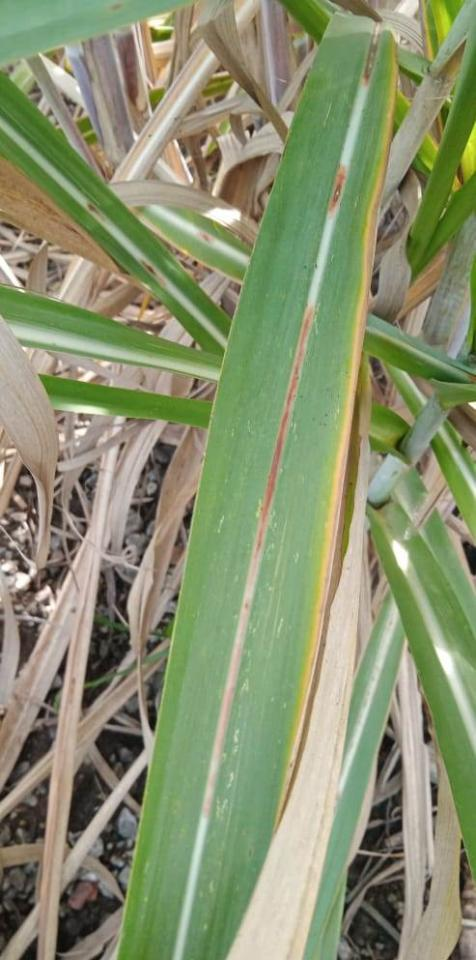RedRot: (200, 305, 315, 821), (327, 159, 348, 215)
